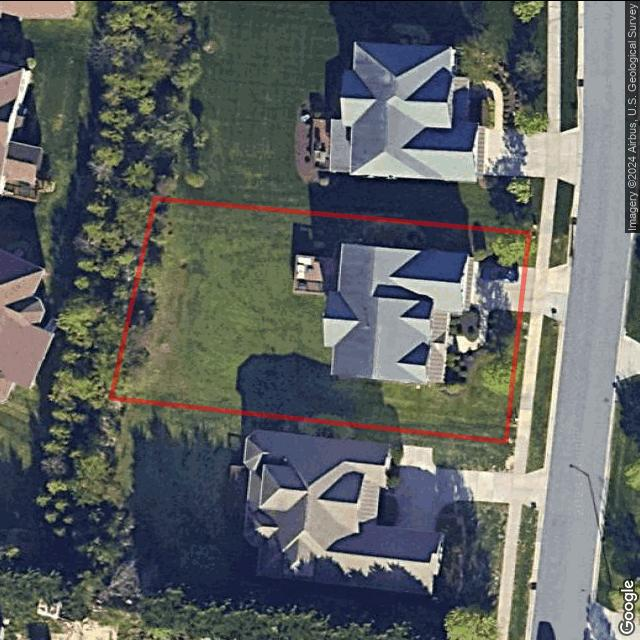Driveway: (505, 310, 530, 443), (471, 257, 523, 310)
Extra-Driveway: (519, 259, 572, 325)
Extra-Lawn: (530, 314, 559, 446), (550, 231, 568, 267), (524, 231, 538, 266)
Extra-Sidewalk: (515, 312, 543, 444), (535, 231, 552, 268)
House: (323, 242, 474, 383)
Lawn: (110, 198, 530, 442)
Other: (436, 308, 512, 396), (293, 254, 340, 294), (450, 304, 480, 339)
Sidewalk: (448, 304, 492, 352)
